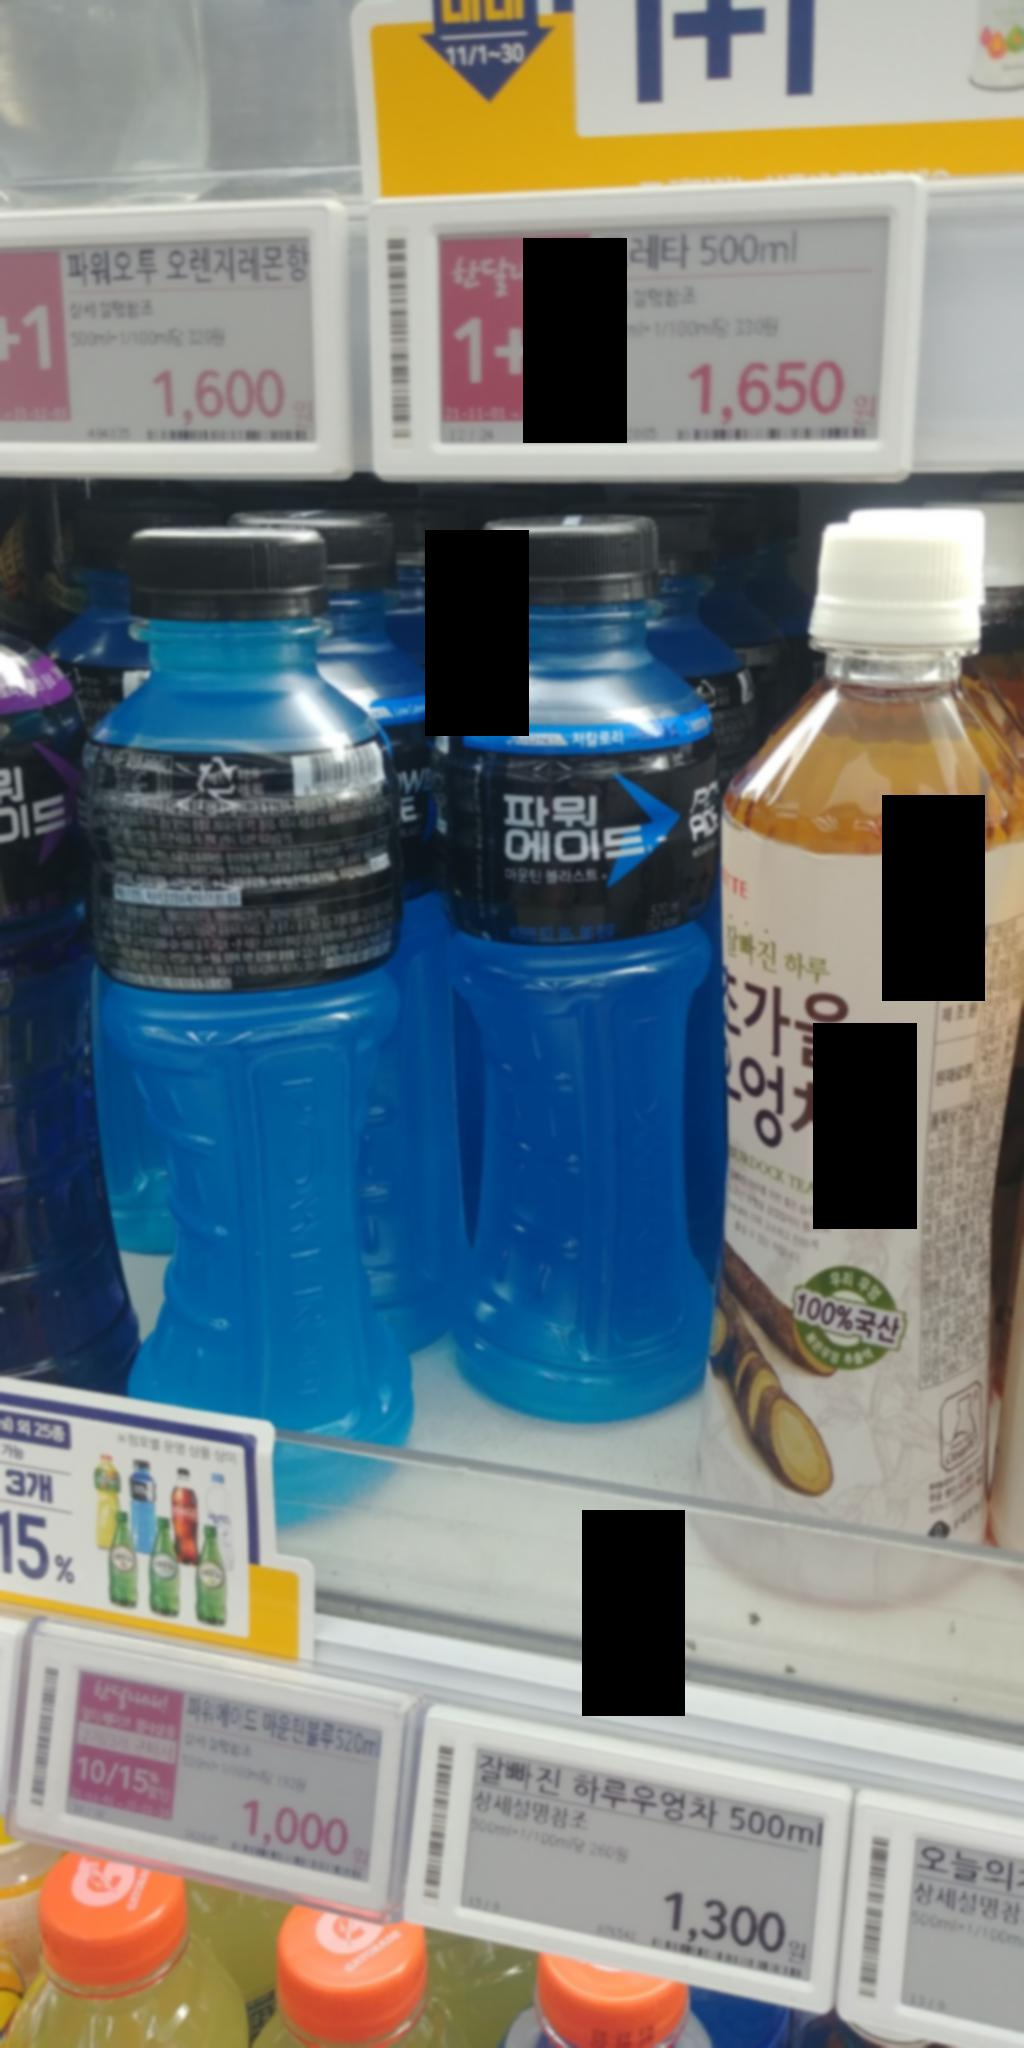powerade_mountainblast: (77, 521, 434, 1520), (428, 508, 728, 1412)
